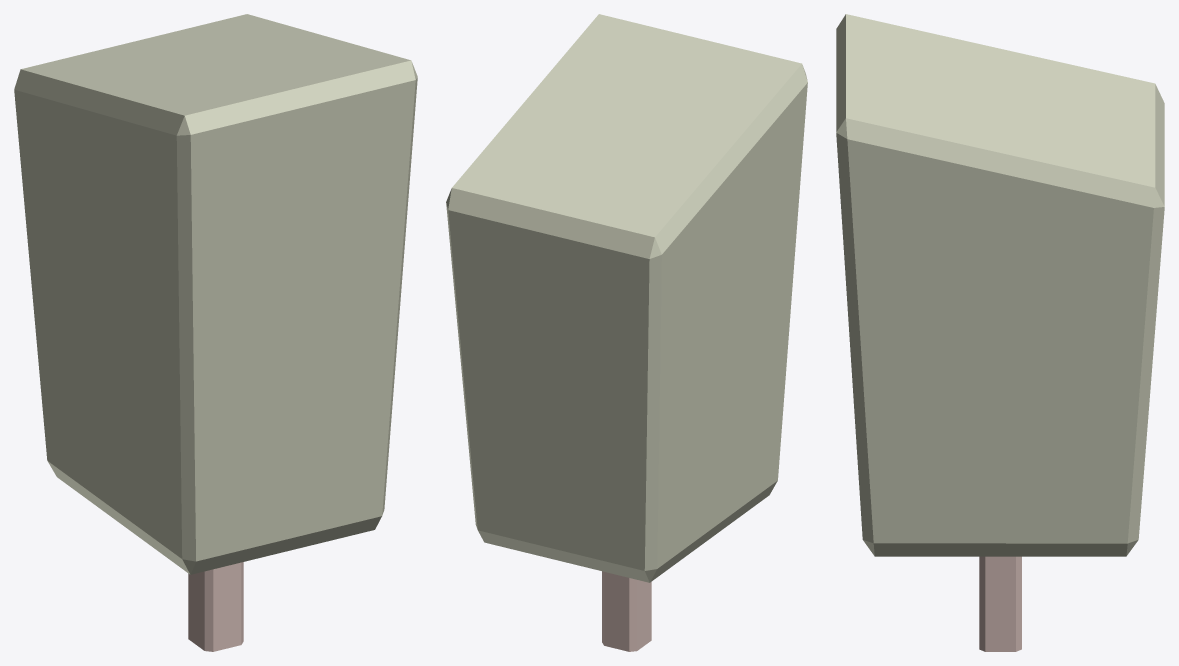
Rendered from Tree.glb.
3 views of the same model, side by side, from view 1: azimuth 30°, elevation 25°; view 2: azimuth 150°, elevation 25°; view 3: azimuth 270°, elevation 25° (orthographic). The views are drawn at different scales.
Parts seen in each view (by area): view 1: Cube; view 2: Cube; view 3: Cube.
Part boxes in pixels (box(x1,y1,x2,y2)): Cube: box(14, 14, 417, 651); Cube: box(446, 14, 807, 651); Cube: box(836, 14, 1164, 651).
Bounding box in the file's own units: 1.61 × 3.91 × 2.02.
